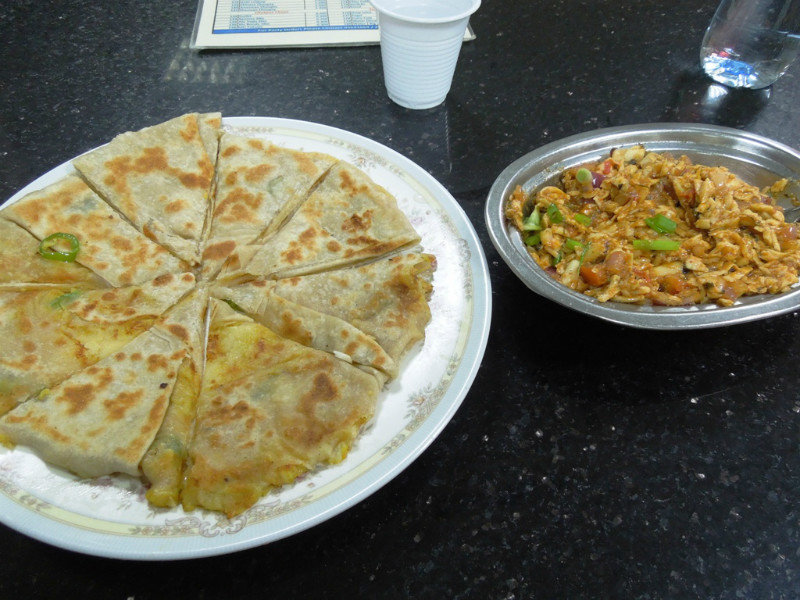aloo_paratha: (1, 111, 438, 523)
